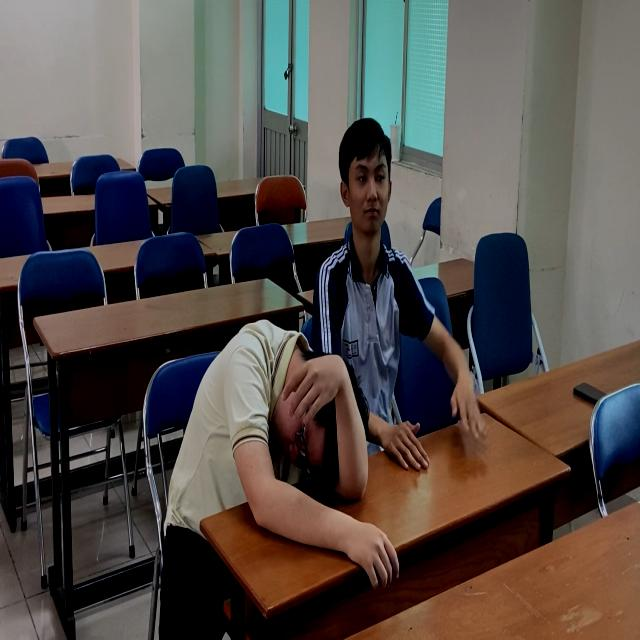sleep: (173, 316, 371, 560)
